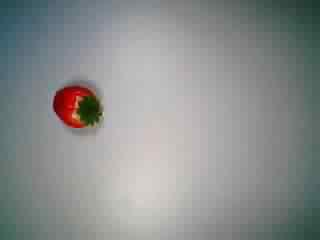strawberry: (42, 78, 116, 142)
